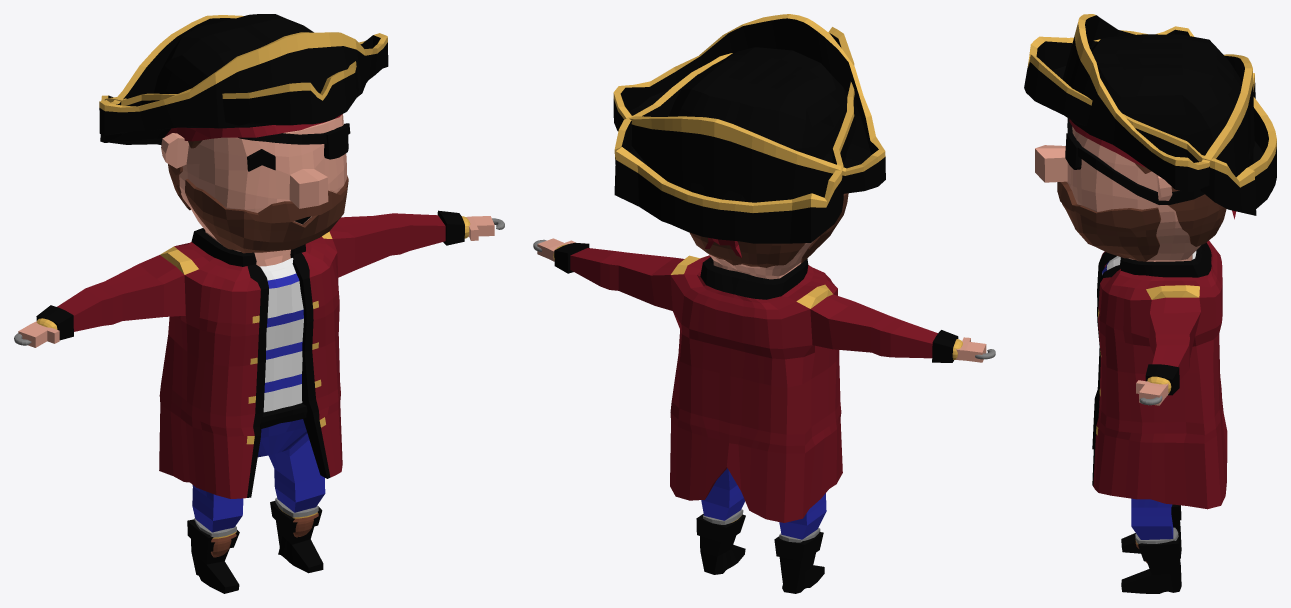
Rendered from pirateV3.fbx.
3 views of the same model, side by side, from view 1: azimuth 30°, elevation 25°; view 2: azimuth 150°, elevation 25°; view 3: azimuth 270°, elevation 25° (orthographic). The views are drawn at different scales.
Parts seen in each view (by area): view 1: Redingote, Pirate, Chapeau_2, Chapeau_1, Barbe, Botes, CacheOeil, Bandana, Mains, CrochetG, JambesBoisG, JambeBoisD; view 2: Redingote, Chapeau_1, Chapeau_2, Botes, Pirate, Cheveaux; view 3: Redingote, Chapeau_1, Chapeau_2, Pirate, Barbe, Botes, CacheOeil, Cheveaux, Mains, Bandana.
Boxes of the visible parts, x1,y1,x2,y2 form: Redingote: (36, 210, 464, 498); Pirate: (161, 114, 346, 532); Chapeau_2: (99, 15, 388, 135); Chapeau_1: (100, 14, 358, 144); Barbe: (185, 175, 348, 253); Botes: (187, 501, 323, 593); CacheOeil: (238, 123, 350, 159); Bandana: (165, 114, 342, 141); Mains: (25, 216, 494, 347); CrochetG: (18, 216, 504, 347); JambesBoisG: (275, 497, 318, 537); JambeBoisD: (194, 518, 236, 557); Redingote: (554, 242, 958, 522); Chapeau_1: (614, 27, 856, 243); Chapeau_2: (613, 14, 885, 202); Botes: (696, 514, 824, 593); Pirate: (701, 241, 826, 539); Cheveaux: (690, 233, 805, 267); Redingote: (1092, 240, 1227, 509); Chapeau_1: (1024, 34, 1276, 215); Chapeau_2: (1062, 14, 1254, 191); Pirate: (1035, 126, 1200, 539); Barbe: (1057, 181, 1160, 261); Botes: (1121, 504, 1181, 593); CacheOeil: (1065, 118, 1204, 204); Cheveaux: (1135, 163, 1226, 246); Mains: (1136, 380, 1168, 405); Bandana: (1069, 119, 1236, 219).
Size of the model in its own units: 570 by 629 by 264.
